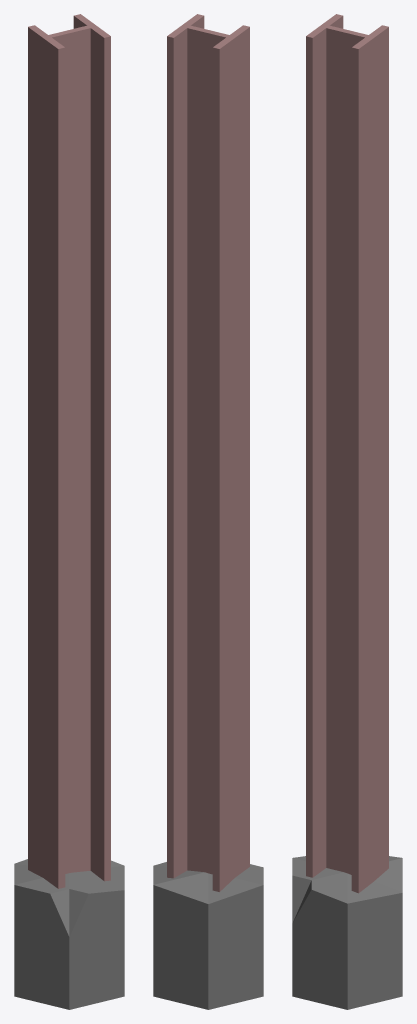
File: SM_Pilar.fbx
3 views of the same model, side by side, from view 1: azimuth 30°, elevation 25°; view 2: azimuth 150°, elevation 25°; view 3: azimuth 330°, elevation 25° (orthographic).
Parts seen in each view (by area): view 1: Pilar; view 2: Pilar; view 3: Pilar.
Boxes of the visible parts, <box> form: Pilar: <box>14,14,124,1009</box>; Pilar: <box>153,14,263,1009</box>; Pilar: <box>292,14,402,1009</box>.
Size of the model in its own units: 112 by 919 by 96.8.
